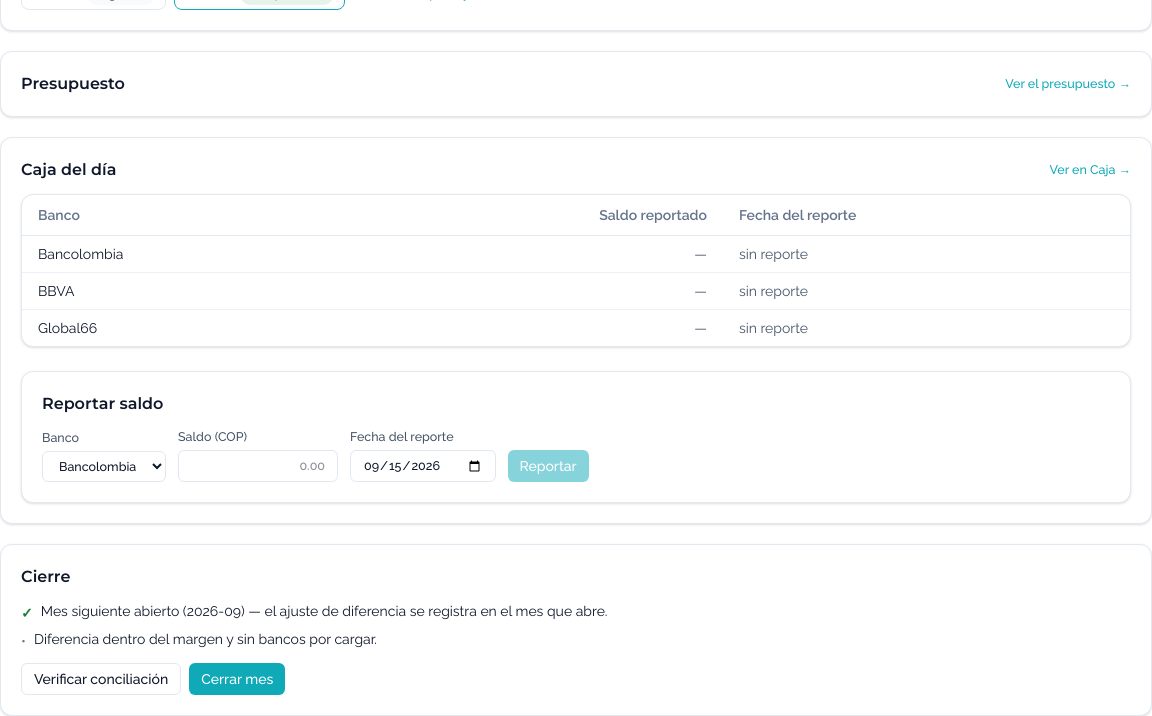
Test: CabinaMesPage — cierre real (§7.6) › verificar conciliación muestra diferencia y umbral
(page scrolled)
Click the button "Verificar conciliación". click: (101, 679)
box: left=21, top=663, right=181, bottom=695
(page scrolled)
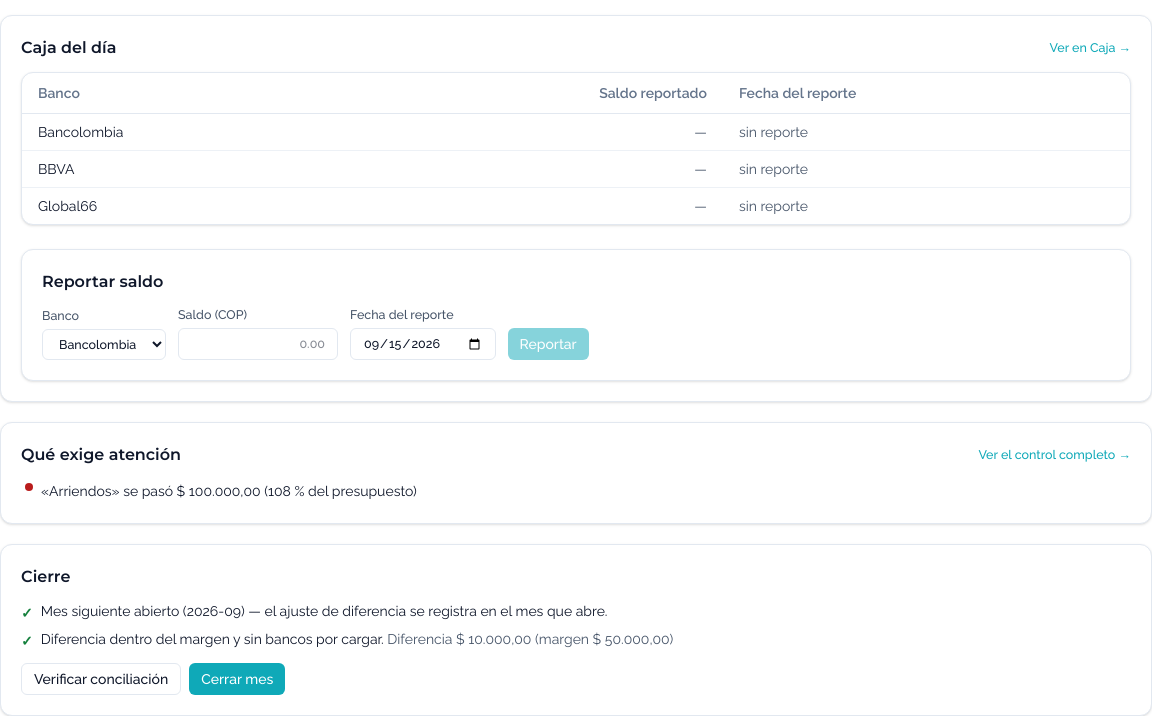
Expected: the text "Diferencia $ 10.000,00 (margen $ 50.000,00)" is shown, left=384, top=631, right=673, bottom=647
